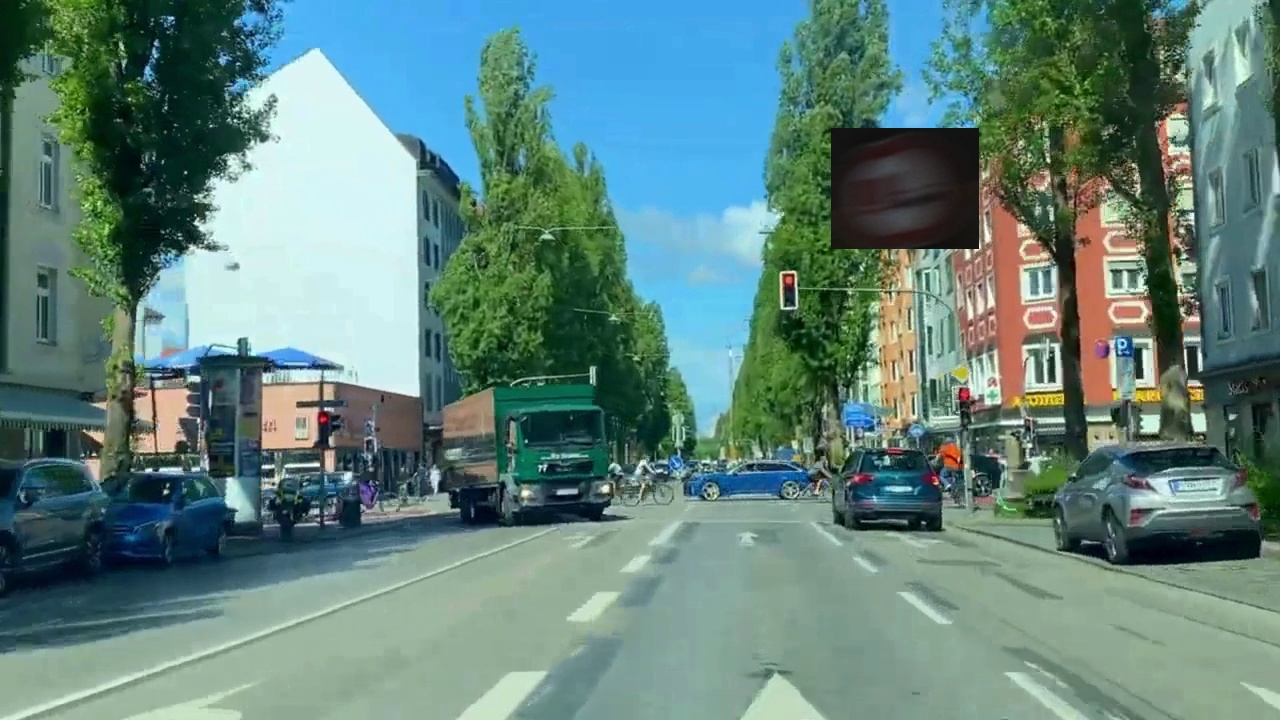No pass >3.5t: (831, 128, 979, 249)
